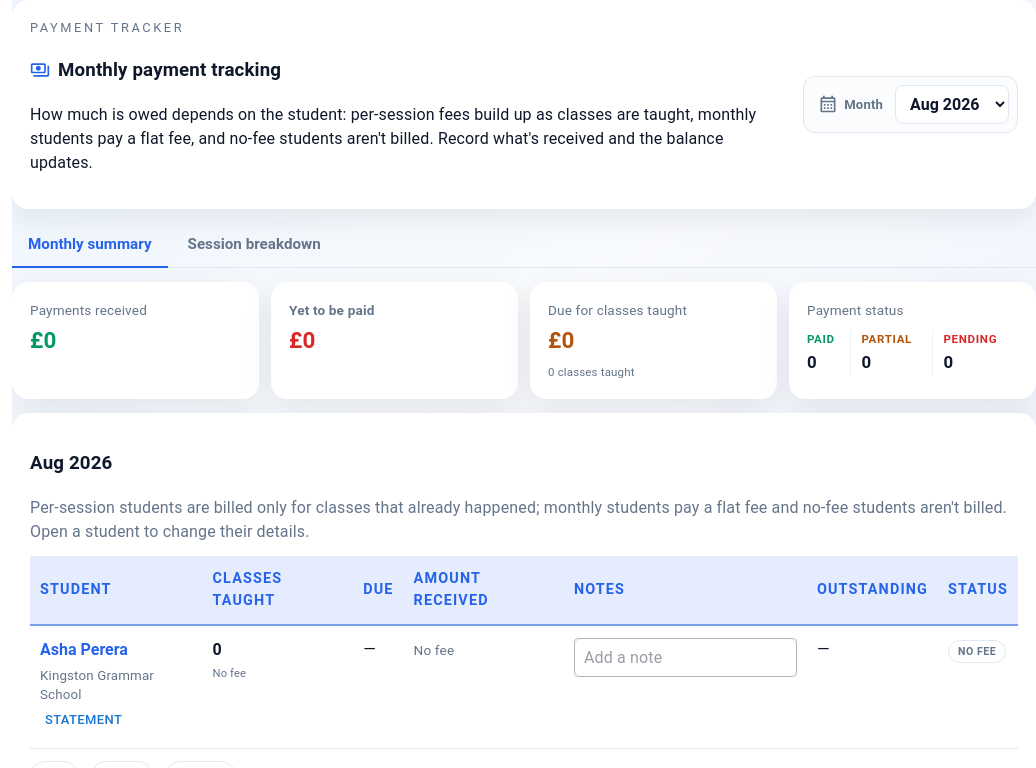
Test case: PaymentTrackerView session breakdown › shows an empty state and disables export when nothing is billable
What coordinates should you click on to do the following:
click the tab "Session breakdown"
I would click on:
 (254, 245)
Its box is left=172, top=223, right=337, bottom=268.
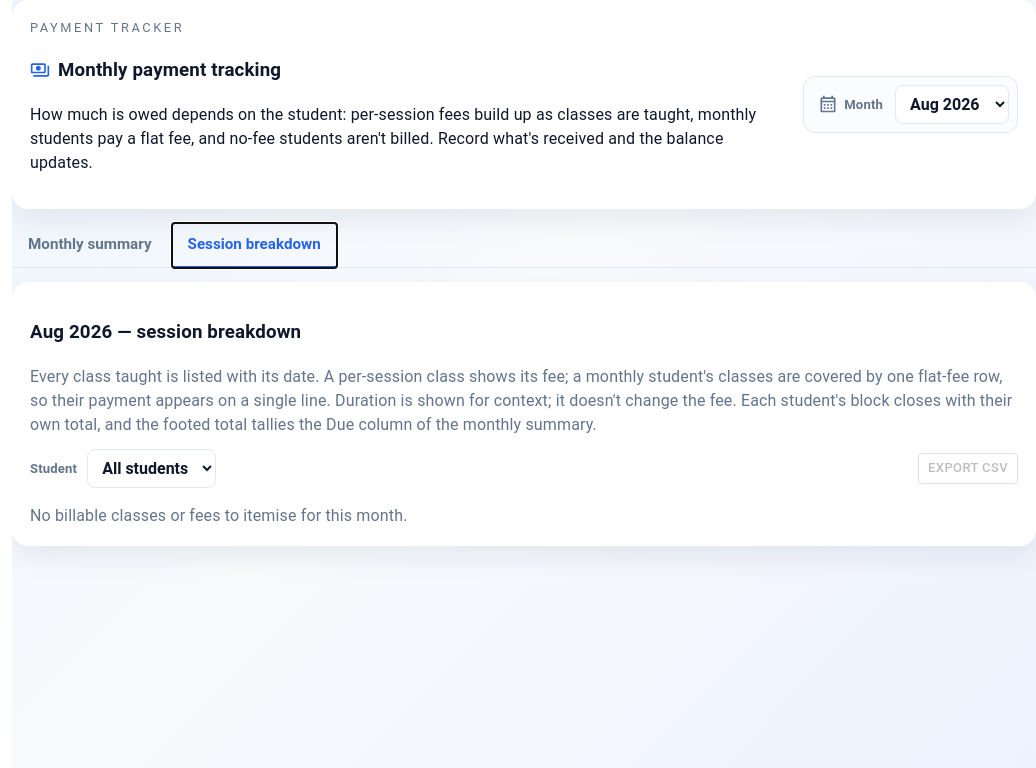
Now the text "No billable classes or fees to itemise for this month." is shown, box left=30, top=506, right=408, bottom=525
Now the button "Export CSV" is disabled, box left=918, top=453, right=1018, bottom=484
